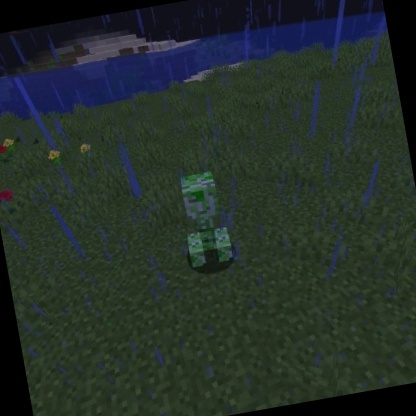creeper: (171, 166, 240, 273)
